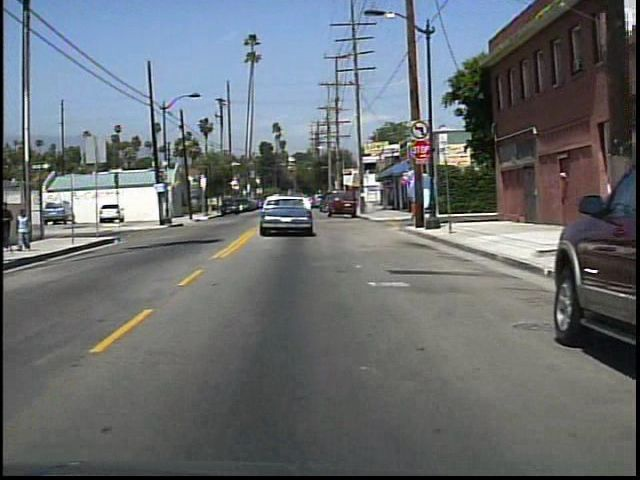person: (17, 205, 38, 253), (2, 200, 20, 252)
